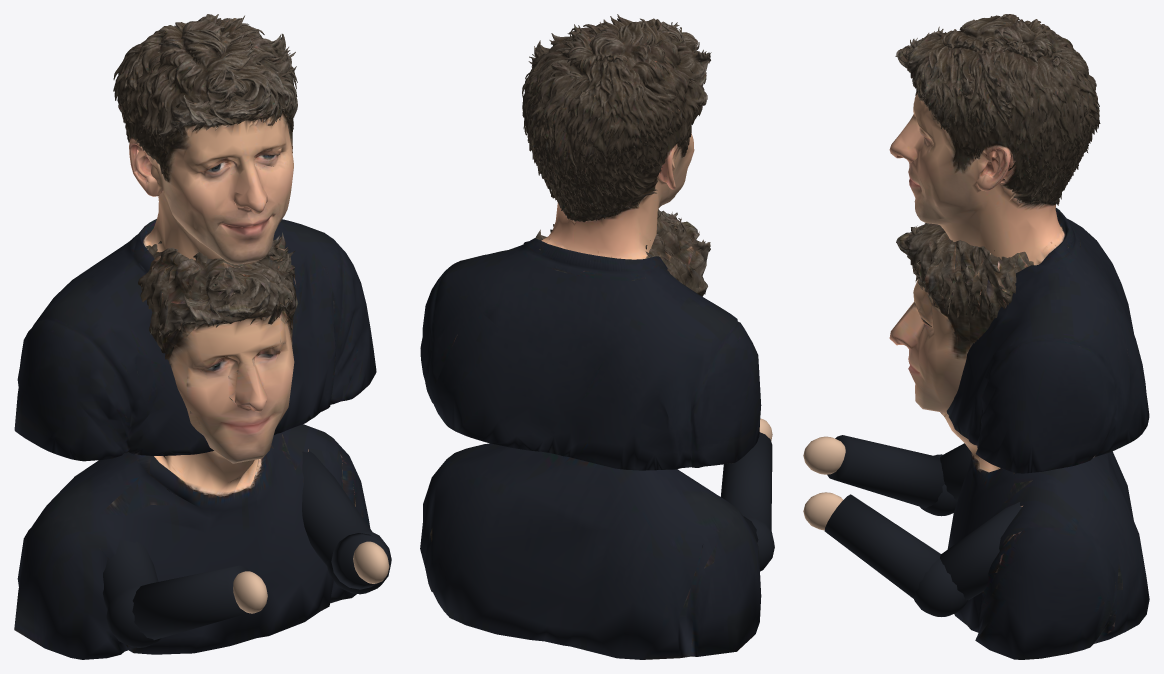
The model's file is sam-runtime.glb.
3 views of the same model, side by side, from view 1: azimuth 30°, elevation 25°; view 2: azimuth 150°, elevation 25°; view 3: azimuth 270°, elevation 25° (orthographic). The views are drawn at different scales.
Parts seen in each view (by area): view 1: sam / portrait sculpture, sam / driving sculpture, sam / driving sleeves, sam / driving hands; view 2: sam / portrait sculpture, sam / driving sculpture, sam / driving sleeves; view 3: sam / portrait sculpture, sam / driving sculpture, sam / driving sleeves, sam / driving hands.
Part boxes in pixels (x1=…): sam / portrait sculpture: x1=14, y1=14, x2=376, y2=461; sam / driving sculpture: x1=14, y1=232, x2=370, y2=659; sam / driving sleeves: x1=103, y1=451, x2=391, y2=647; sam / driving hands: x1=233, y1=541, x2=389, y2=613; sam / portrait sculpture: x1=420, y1=14, x2=761, y2=470; sam / driving sculpture: x1=420, y1=209, x2=761, y2=659; sam / driving sleeves: x1=720, y1=432, x2=774, y2=571; sam / portrait sculpture: x1=889, y1=14, x2=1149, y2=473; sam / driving sculpture: x1=889, y1=223, x2=1149, y2=659; sam / driving sleeves: x1=824, y1=435, x2=1021, y2=616; sam / driving hands: x1=803, y1=436, x2=845, y2=530.
Size of the model in its own units: 0.8875 by 1.5 by 0.8404.
3 materials, 1 textured.
